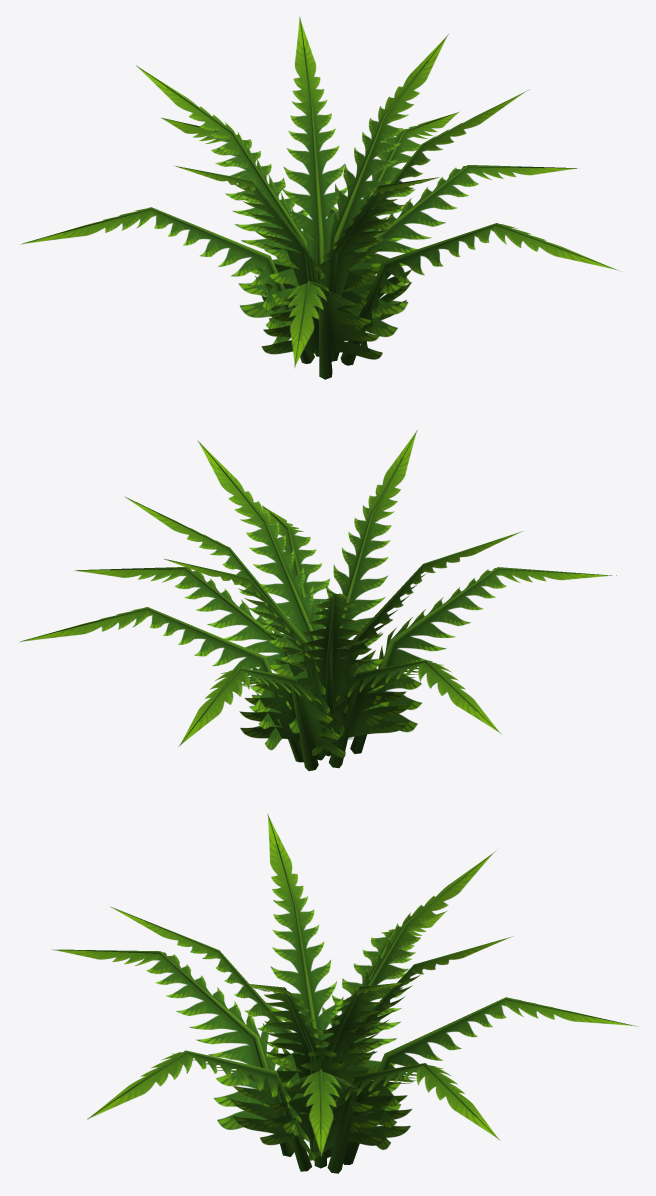
File: Bush1.glb
3 renders of one model, top to bottom at view 1: azimuth 30°, elevation 25°; view 2: azimuth 150°, elevation 25°; view 3: azimuth 270°, elevation 25°, orthographic. The views are drawn at different scales.
Visible parts, largest first — view 1: Bush_01; view 2: Bush_01; view 3: Bush_01.
Part boxes in pixels (x1=…): Bush_01: x1=21, y1=17, x2=620, y2=379; Bush_01: x1=20, y1=429, x2=616, y2=770; Bush_01: x1=52, y1=814, x2=637, y2=1173.
Size of the model in its own units: 55.92 by 26.59 by 57.31.
Materials: 1 (1 with a texture image).
